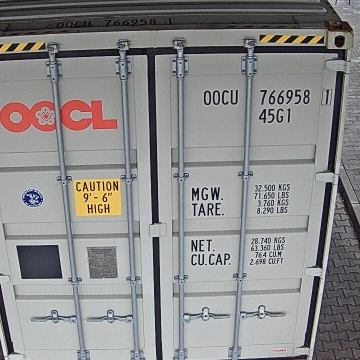serial_id: (203, 89, 330, 105)
